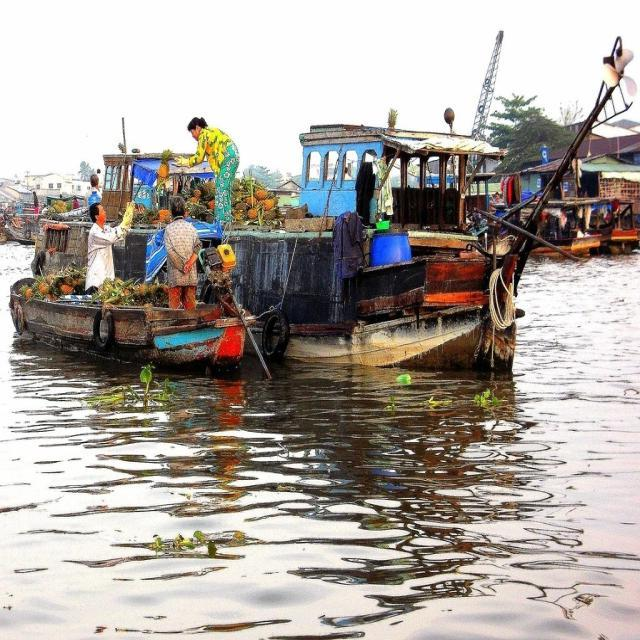Hyacinth: (370, 383, 505, 427), (89, 366, 175, 421), (138, 519, 232, 569)
boat: (10, 185, 480, 368), (6, 273, 288, 364)
